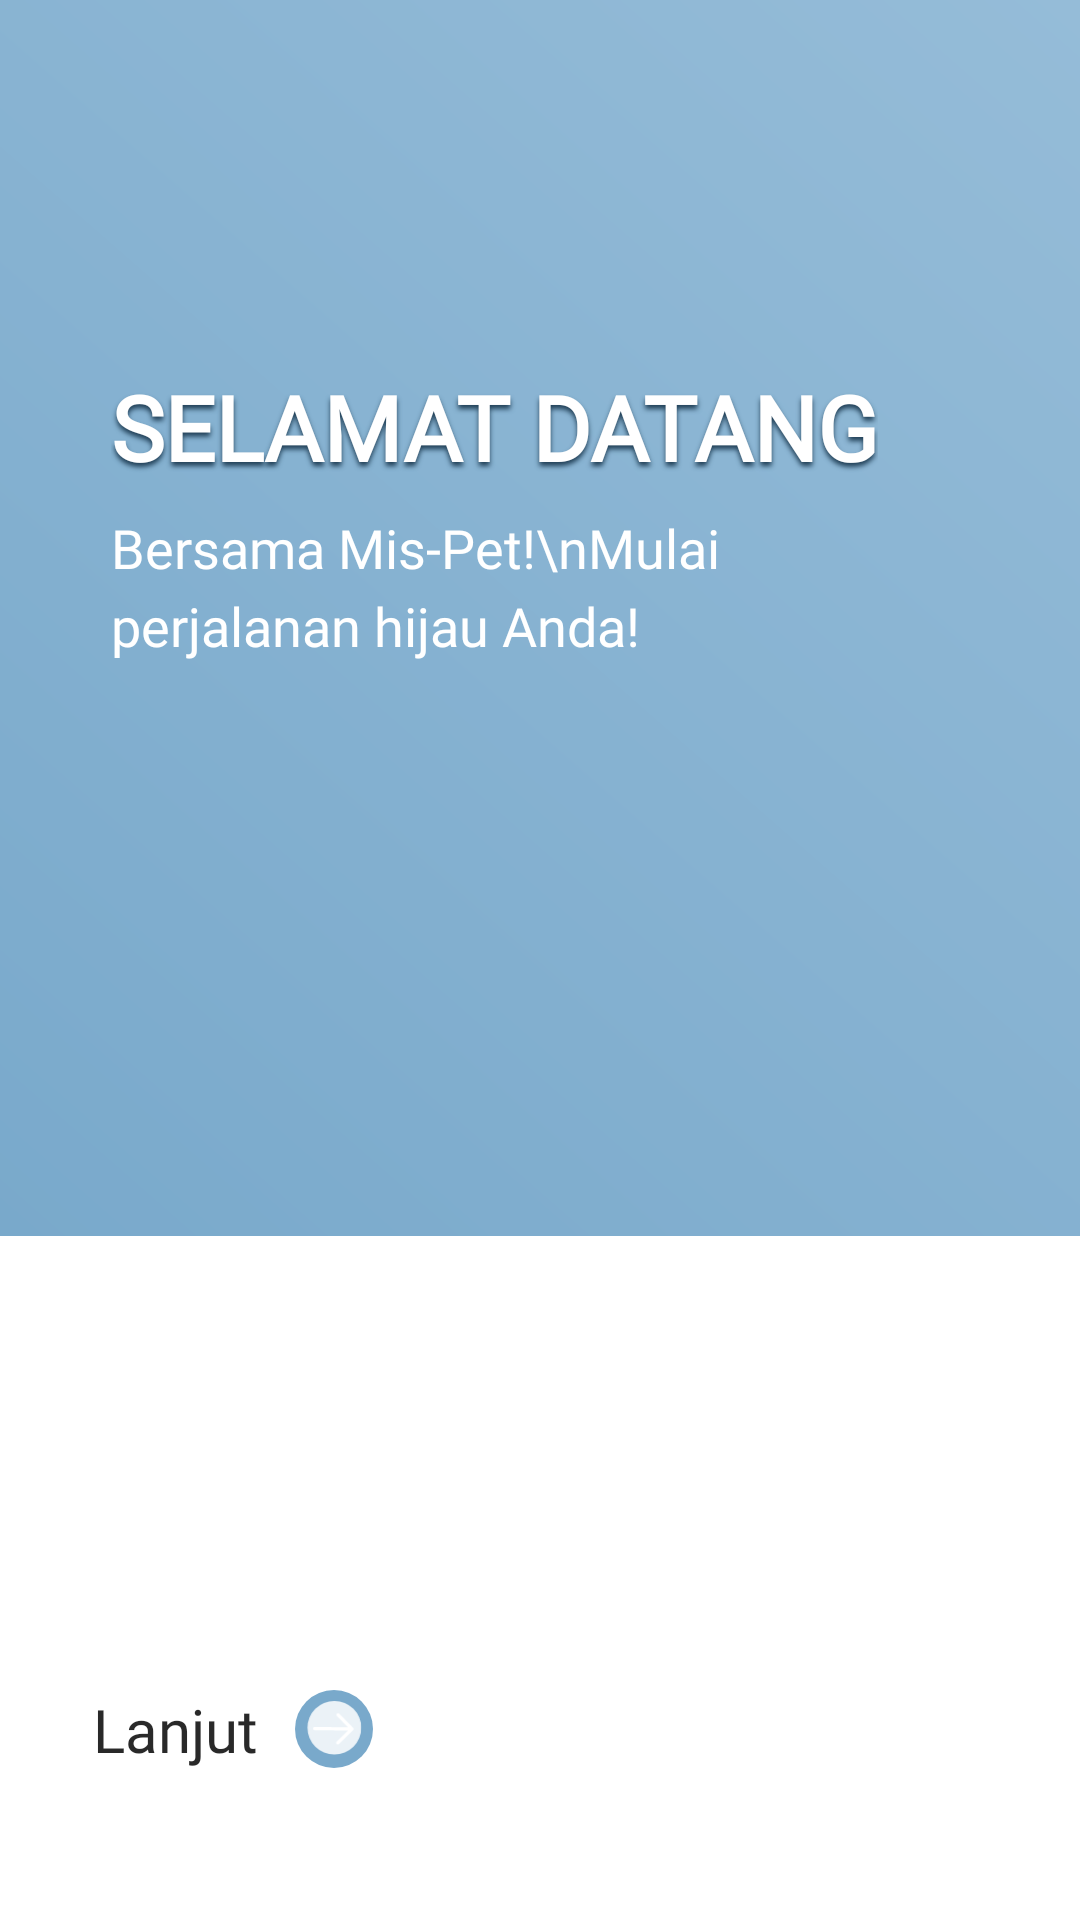

Icon click points for this 1080w x 1920h phone screenshot, format point (x, y):
arrow right circle: point (334, 1729)
